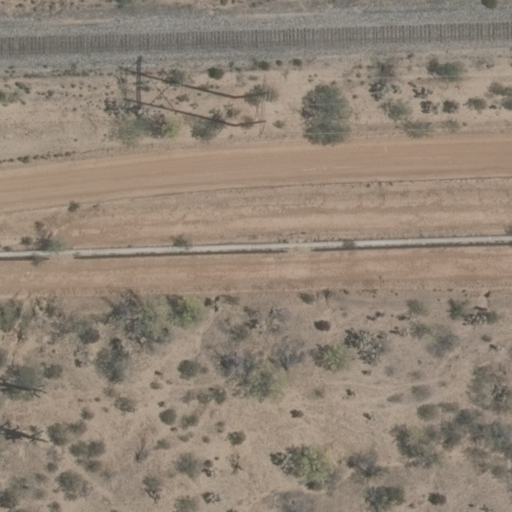TT: (232, 85, 275, 132)
